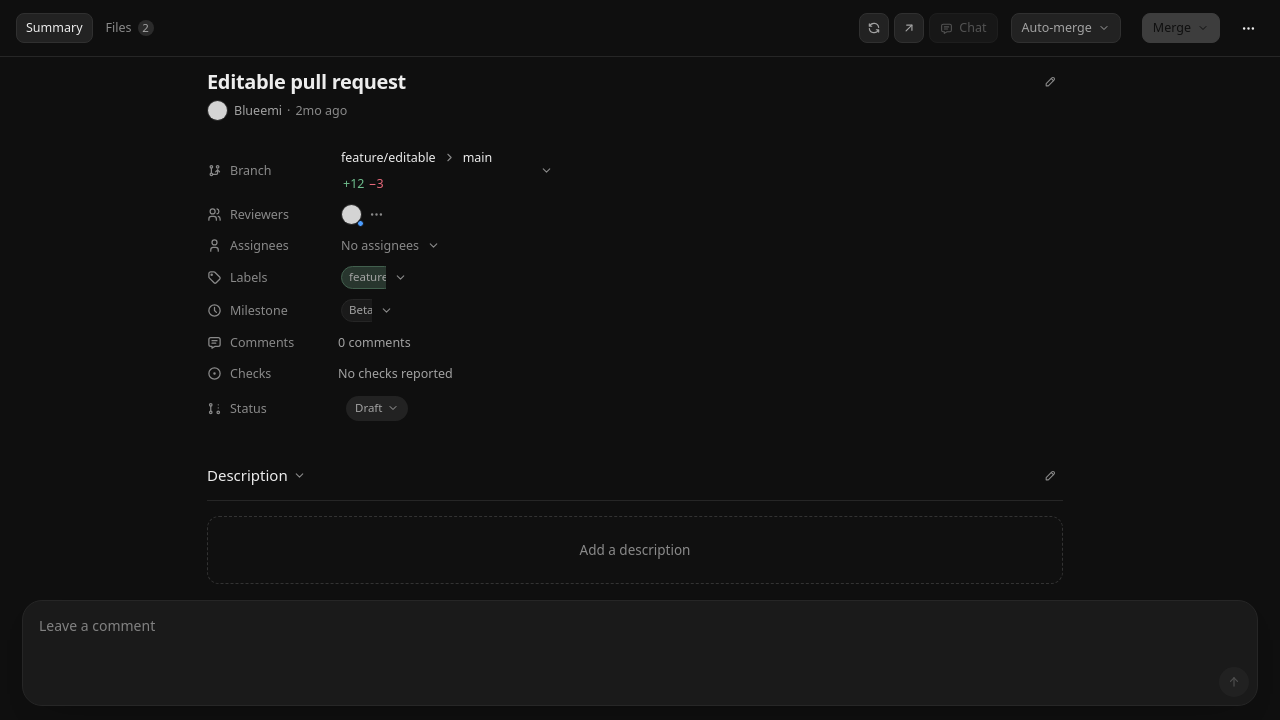
PullRequestDetailPane metadata controls › ignores a refresh that started before a successful change
Expected: the heading "Editable pull request" is shown, [207,69,406,94]
Click the button named "Refresh pull request" at (874, 28), box [859,13,889,43]
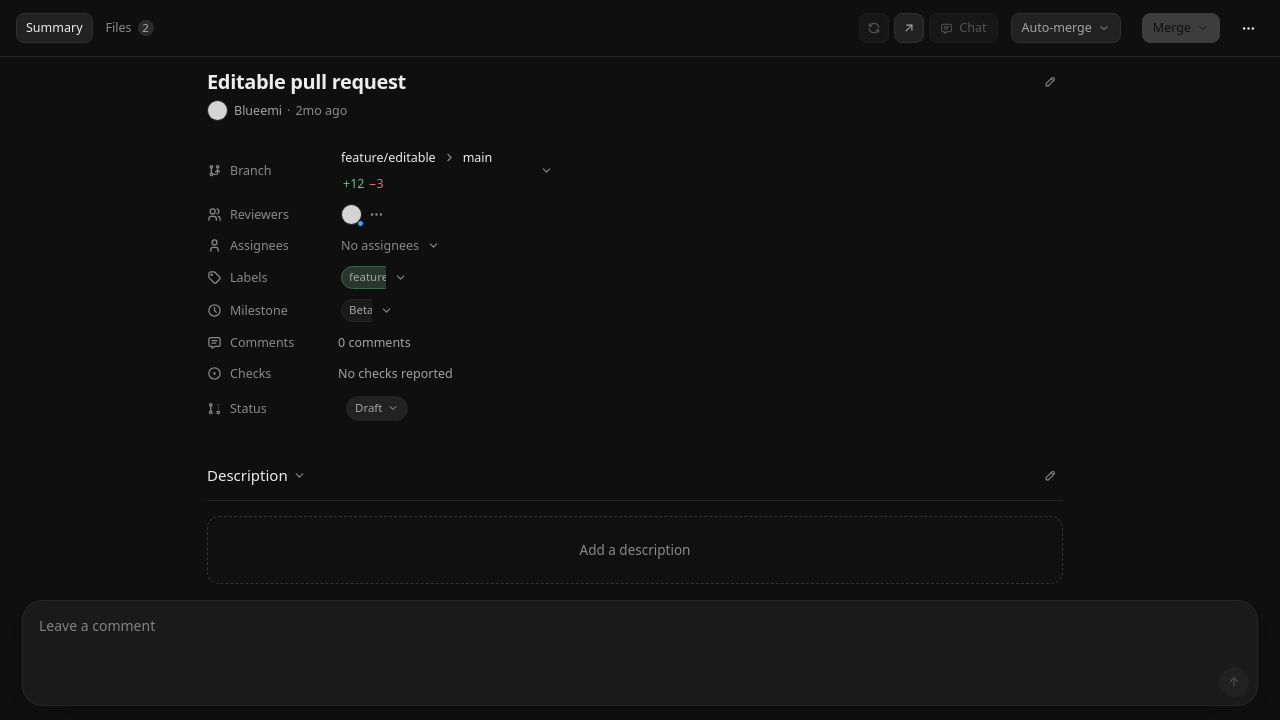
Click the button with aria-label "Change pull request status" at (377, 408), box [338,391,416,426]
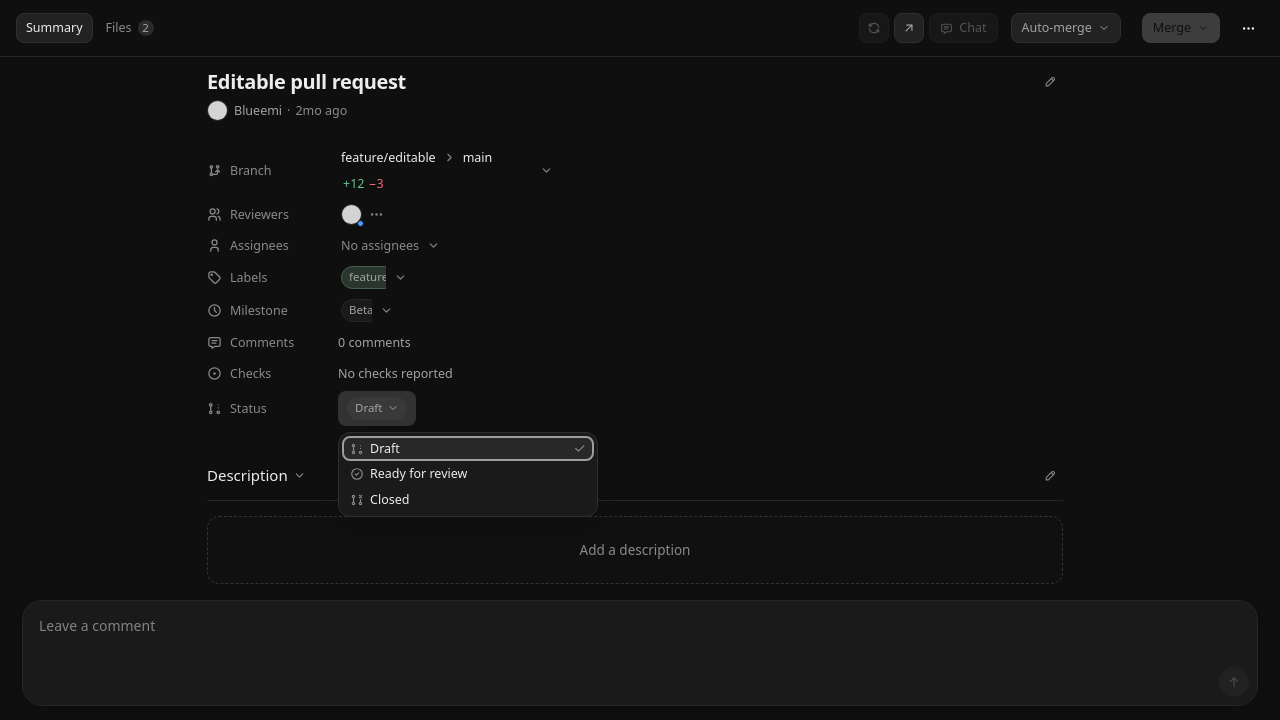
Click the menu item "Ready for review" at (468, 474), box [342,461,594,487]
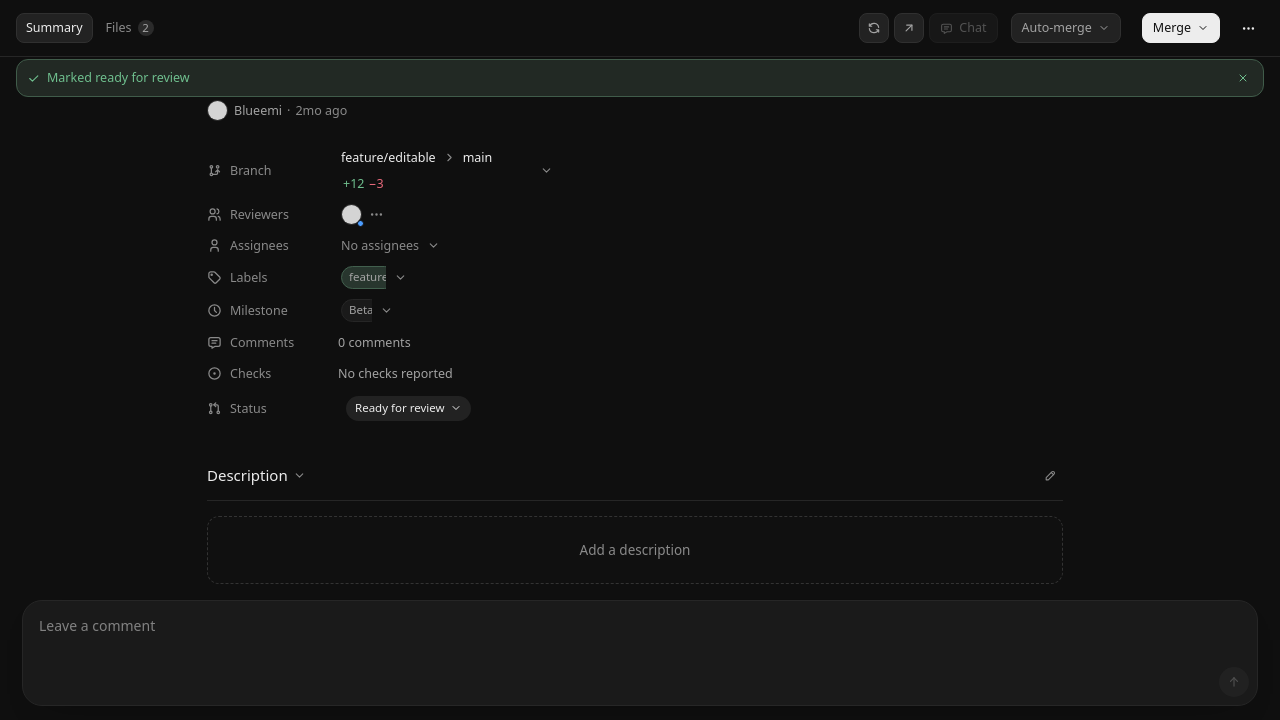
Now the text "Marked ready for review" is shown, box [47,69,190,86]
